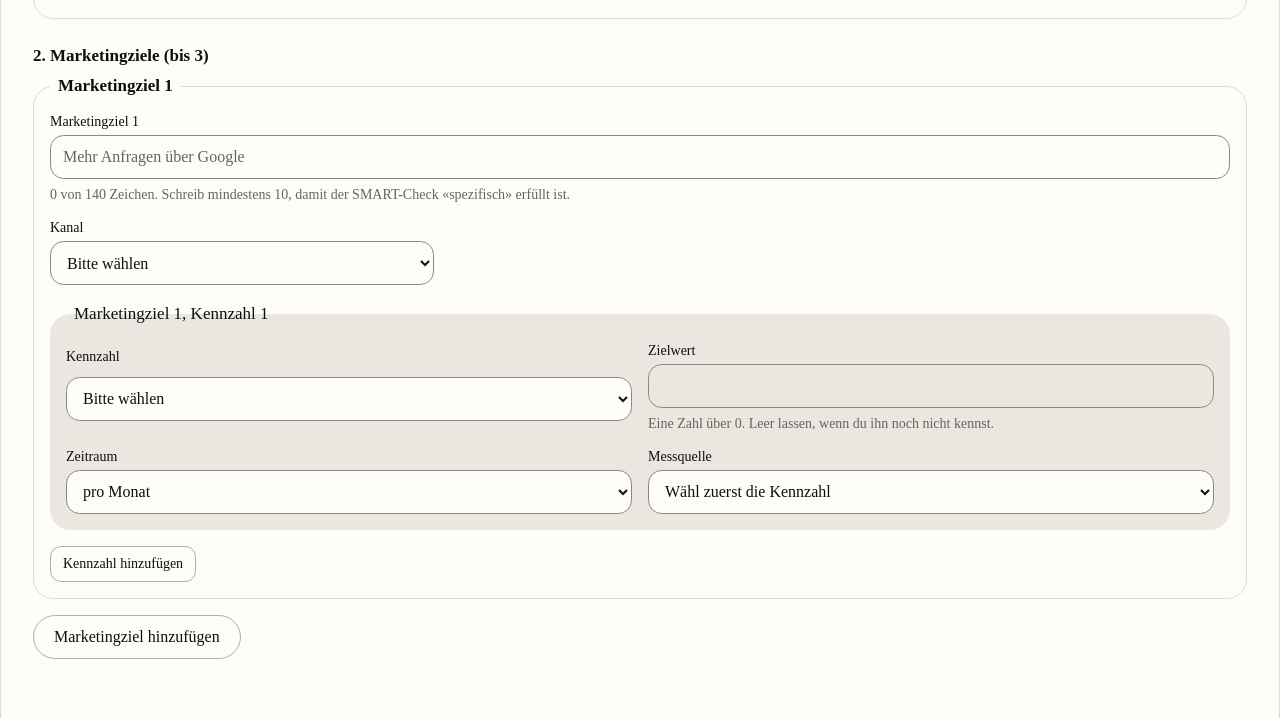
Ziel- und KPI-Baum: Formular › bietet die Messquellen der Kennzahl an und fragt bei «Andere» nach einem Text
(page scrolled)
Expected: the dropdown with id "kb-z1-k1-quelle" is disabled, [648, 470, 1214, 514]
Select "Anfragen" in the dropdown with id "kb-z1-k1-kpi" at (349, 399), box [66, 377, 632, 421]
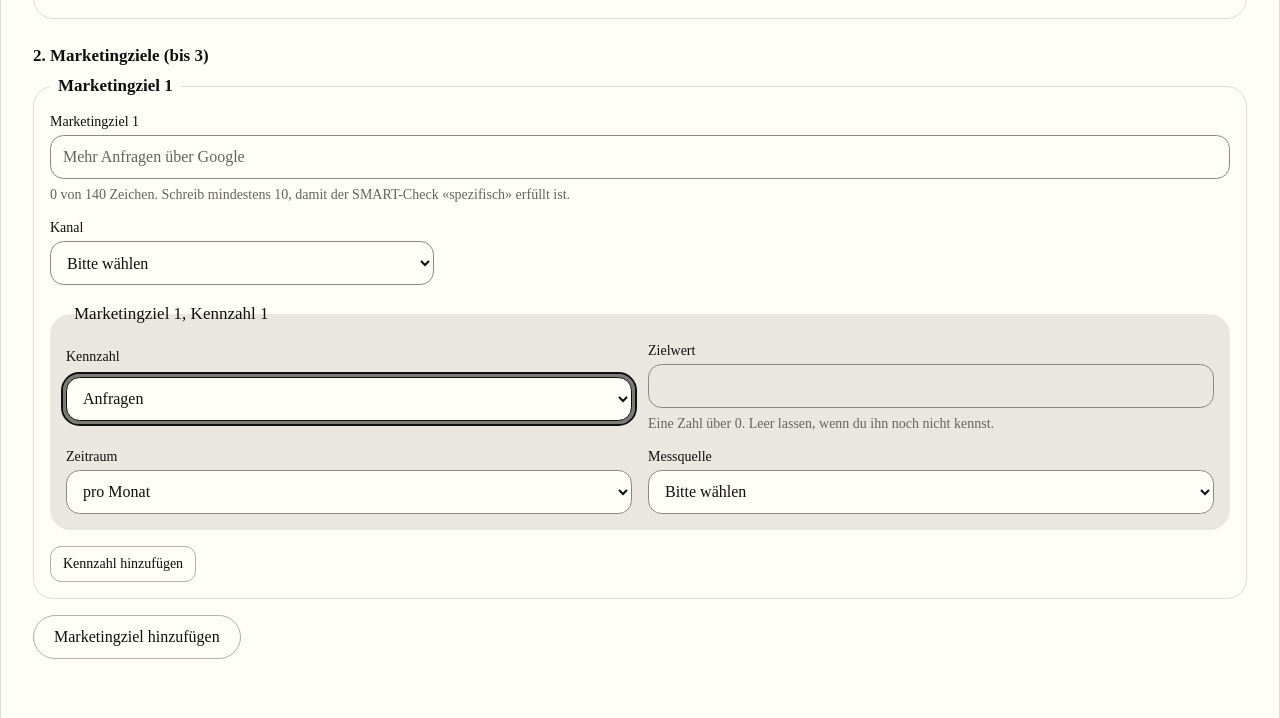
Select "Website-Besuche" in the dropdown with id "kb-z1-k1-kpi" at (349, 399), box [66, 377, 632, 421]
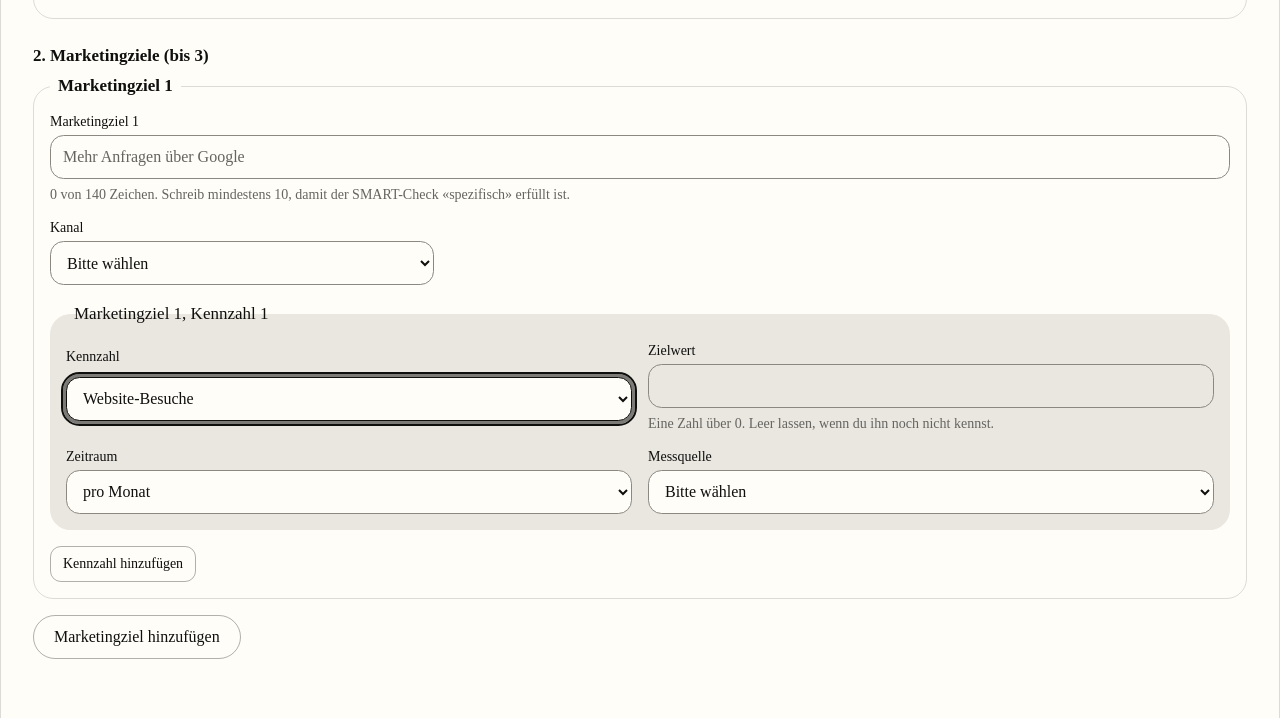
Expected: the field labelled "Eigene Messquelle" is not shown
Select "Andere" in the dropdown with id "kb-z1-k1-quelle" at (931, 492), box [648, 470, 1214, 514]
(page scrolled)
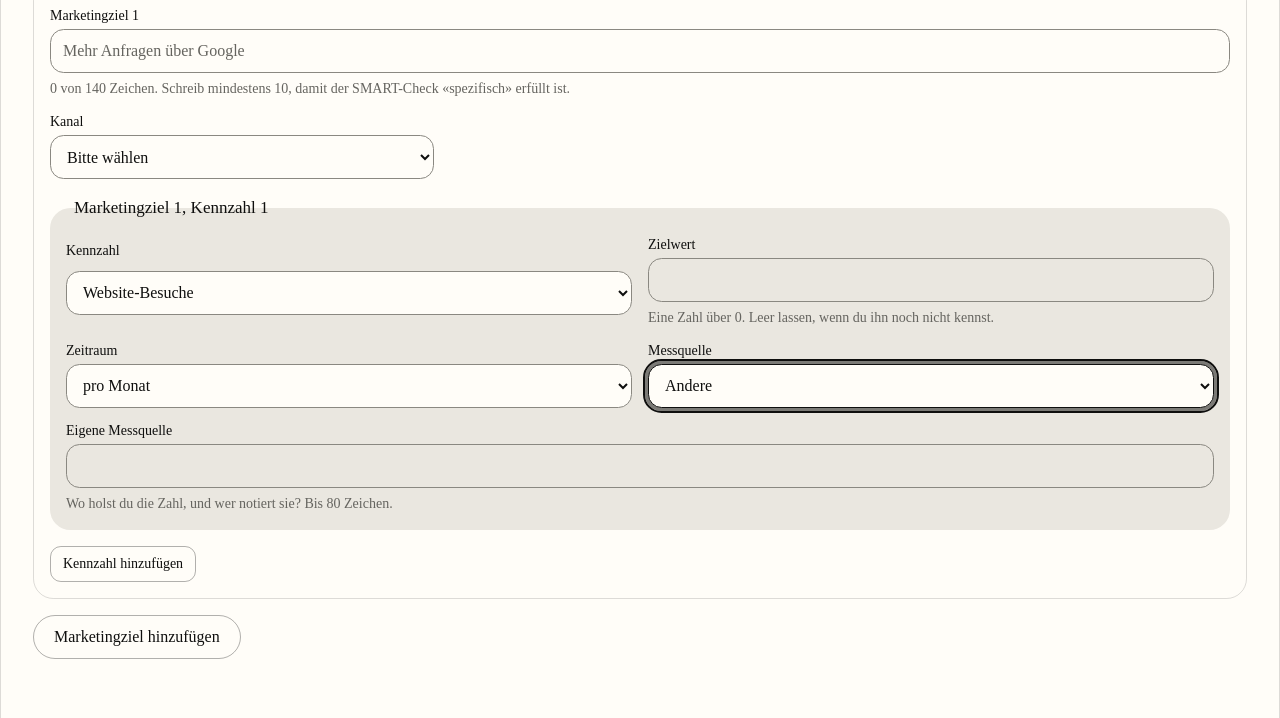
Result: the field labelled "Eigene Messquelle" is shown at [66, 444, 1214, 488]
Select "Termine" in the dropdown with id "kb-z1-k1-kpi" at (349, 293), box [66, 271, 632, 315]
(page scrolled)
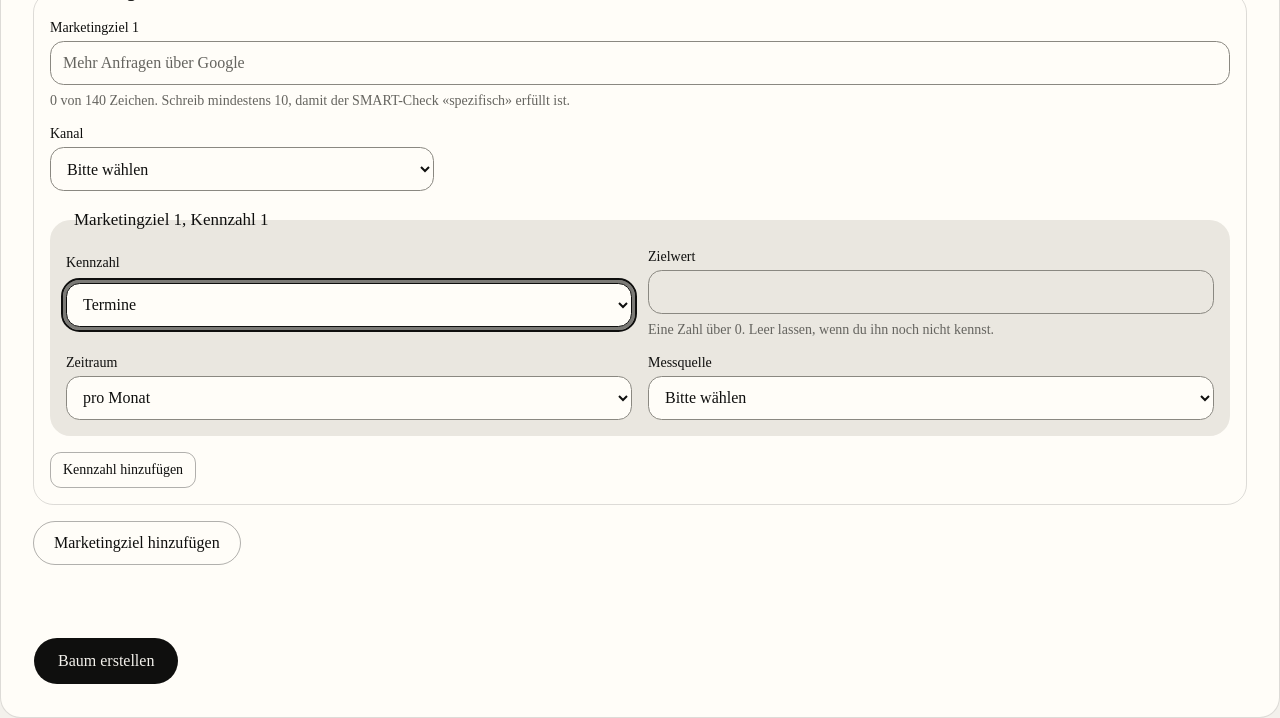
Result: the label labelled "Eigene Messquelle" is gone
